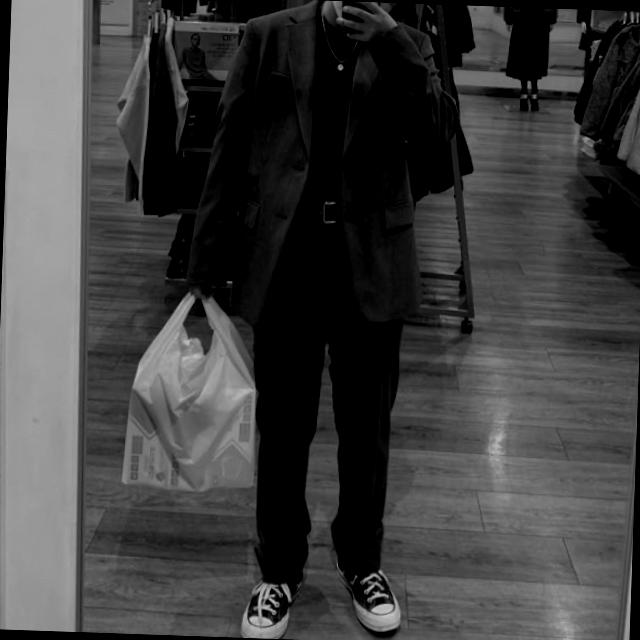blazer: (186, 0, 454, 325)
slacks: (246, 193, 406, 577)
